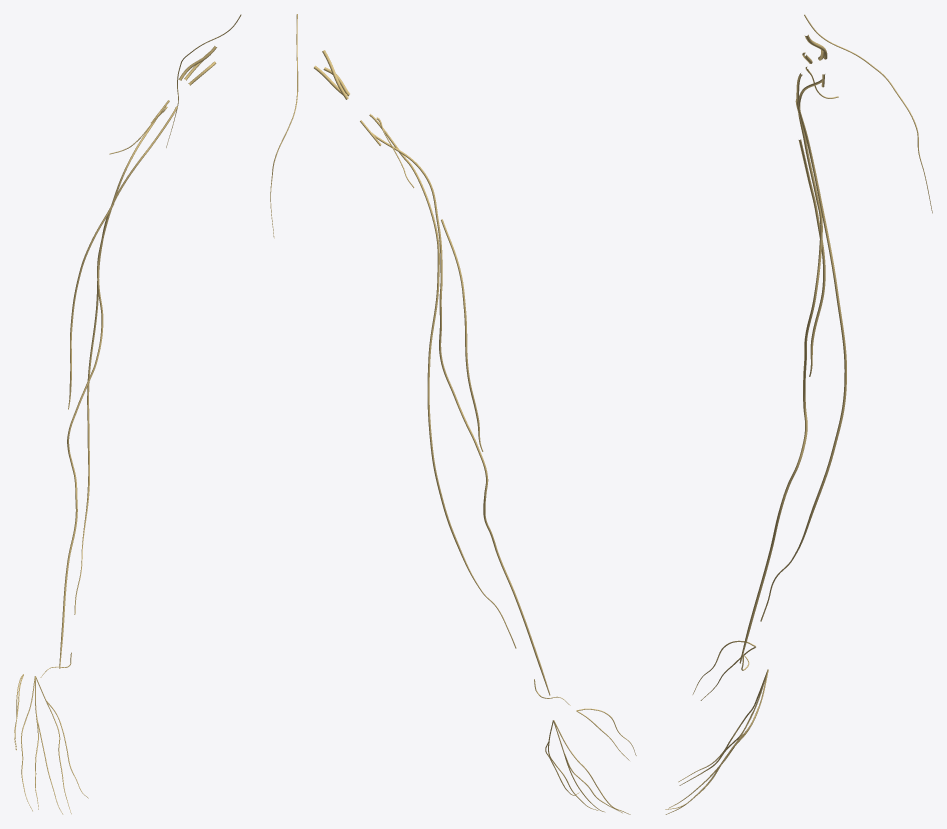
The model's file is upper-right.glb.
3 views of the same model, side by side, from view 1: azimuth 30°, elevation 25°; view 2: azimuth 150°, elevation 25°; view 3: azimuth 270°, elevation 25° (orthographic). The views are drawn at different scales.
Visible parts, largest first — view 1: zanatomy_median-nerve-r, zanatomy_dorsal-digital-branches-of-radial-nerve-r, zanatomy_ulnar-nerve-r, zanatomy_musculocutaneous-nerve-r; view 2: zanatomy_median-nerve-r, zanatomy_ulnar-nerve-r, zanatomy_dorsal-digital-branches-of-radial-nerve-r; view 3: zanatomy_median-nerve-r, zanatomy_ulnar-nerve-r, zanatomy_dorsal-digital-branches-of-radial-nerve-r, zanatomy_musculocutaneous-nerve-r.
Part boxes in pixels (x1=…): zanatomy_median-nerve-r: x1=59, y1=111, x2=160, y2=668; zanatomy_dorsal-digital-branches-of-radial-nerve-r: x1=14, y1=674, x2=88, y2=814; zanatomy_ulnar-nerve-r: x1=74, y1=106, x2=177, y2=614; zanatomy_musculocutaneous-nerve-r: x1=68, y1=203, x2=113, y2=409; zanatomy_median-nerve-r: x1=371, y1=132, x2=550, y2=695; zanatomy_ulnar-nerve-r: x1=369, y1=114, x2=516, y2=648; zanatomy_dorsal-digital-branches-of-radial-nerve-r: x1=545, y1=708, x2=636, y2=814; zanatomy_median-nerve-r: x1=739, y1=79, x2=822, y2=663; zanatomy_ulnar-nerve-r: x1=760, y1=73, x2=846, y2=621; zanatomy_dorsal-digital-branches-of-radial-nerve-r: x1=665, y1=640, x2=768, y2=814; zanatomy_musculocutaneous-nerve-r: x1=798, y1=139, x2=825, y2=376.
Size of the model in its own units: 0.307 by 0.7786 by 0.1999.
